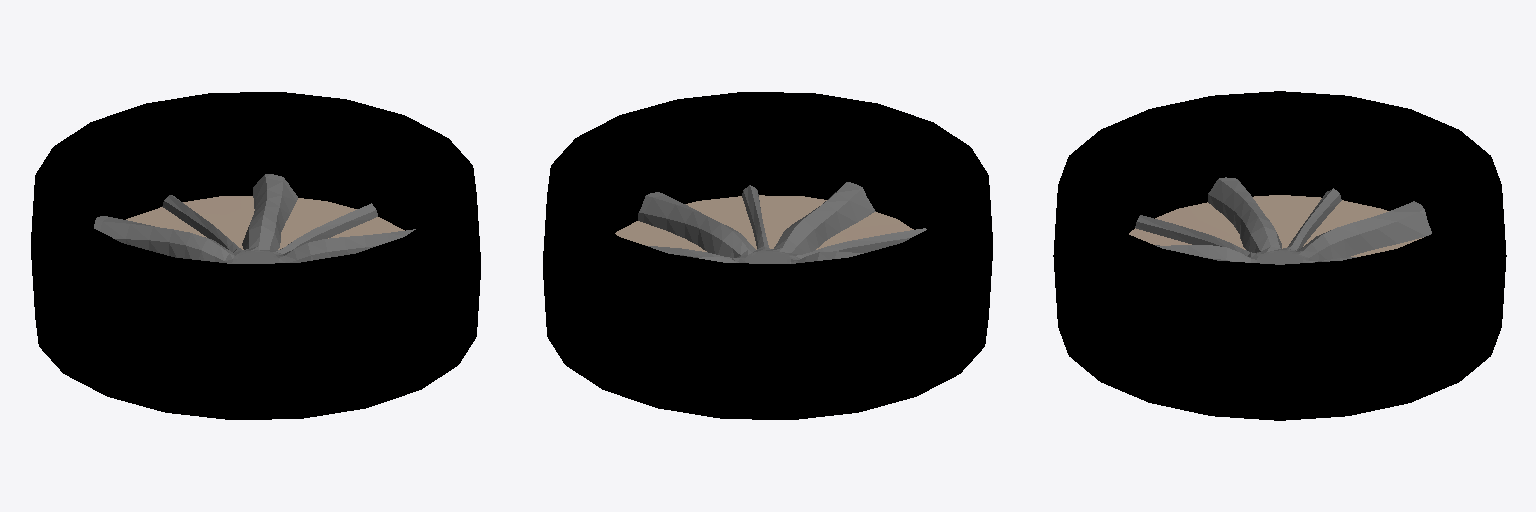
The picture shows the model from 3 angles: view 1: azimuth 30°, elevation 25°; view 2: azimuth 150°, elevation 25°; view 3: azimuth 270°, elevation 25°; orthographic projection.
Parts seen in each view (by area): view 1: Circle.011, Circle.006, Circle.010; view 2: Circle.011, Circle.006, Circle.010; view 3: Circle.011, Circle.006, Circle.010.
Boxes of the visible parts, <box> form: Circle.011: <box>31,92,480,419</box>; Circle.006: <box>94,174,415,263</box>; Circle.010: <box>126,196,404,249</box>; Circle.011: <box>543,92,992,419</box>; Circle.006: <box>638,182,926,263</box>; Circle.010: <box>615,195,913,251</box>; Circle.011: <box>1053,91,1506,420</box>; Circle.006: <box>1135,177,1431,264</box>; Circle.010: <box>1129,195,1423,256</box>.
Size of the model in its own units: 0.91 by 0.3346 by 0.9096.
4 materials, 1 textured.